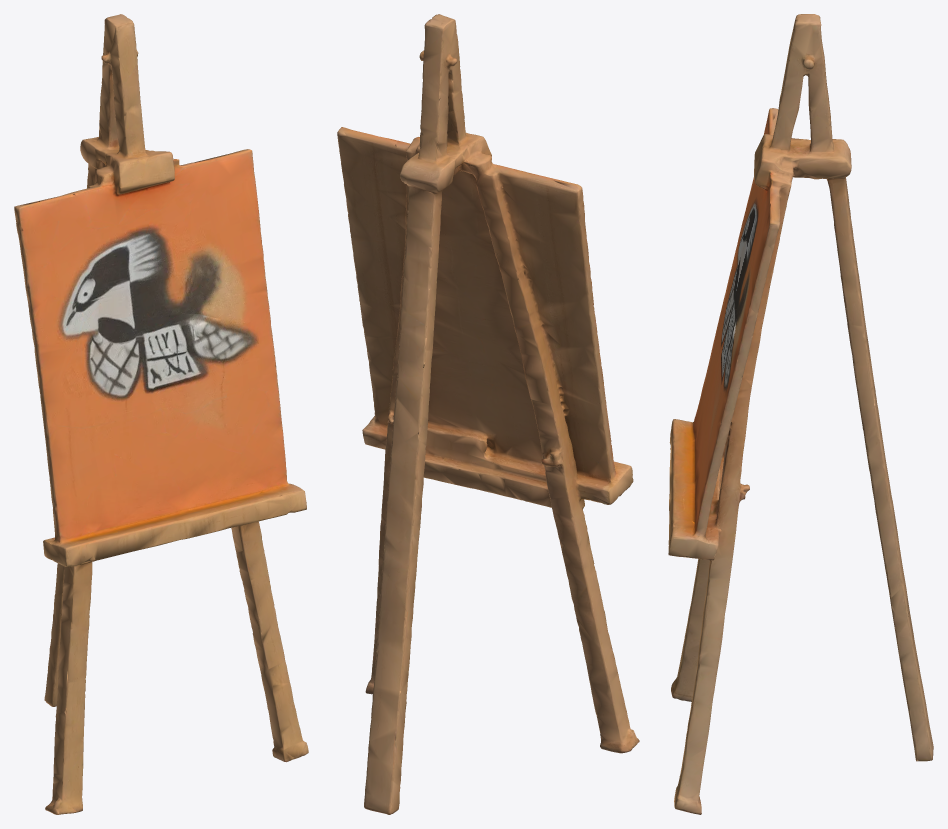
Rendered from easel.glb.
3 renders of one model, left to right at view 1: azimuth 30°, elevation 25°; view 2: azimuth 150°, elevation 25°; view 3: azimuth 270°, elevation 25°, orthographic. The views are drawn at different scales.
Bounding box in the file's own units: 0.7376 × 2 × 0.6524.
Materials: 1 (1 with a texture image).
